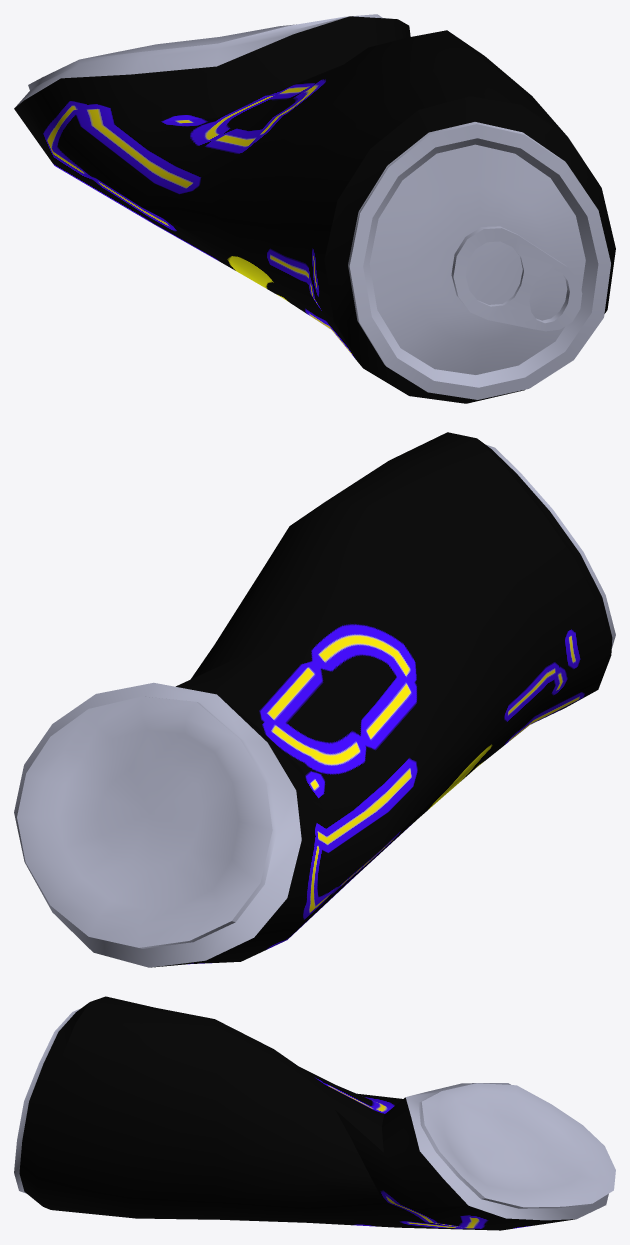
File: Misc_BeverageCan_02_Crushed_B.glb
3 renders of one model, top to bottom at view 1: azimuth 30°, elevation 25°; view 2: azimuth 150°, elevation 25°; view 3: azimuth 270°, elevation 25°, orthographic. The views are drawn at different scales.
Visible parts, largest first — view 1: Misc_BeverageCan_02_Crushed_B.001; view 2: Misc_BeverageCan_02_Crushed_B.001; view 3: Misc_BeverageCan_02_Crushed_B.001.
Boxes of the visible parts, bbox=[...] form: Misc_BeverageCan_02_Crushed_B.001: bbox=[14, 14, 615, 403]; Misc_BeverageCan_02_Crushed_B.001: bbox=[14, 432, 615, 967]; Misc_BeverageCan_02_Crushed_B.001: bbox=[14, 996, 615, 1230].
Size of the model in its own units: 0.0844 by 0.0716 by 0.184.
2 materials, 1 textured.
